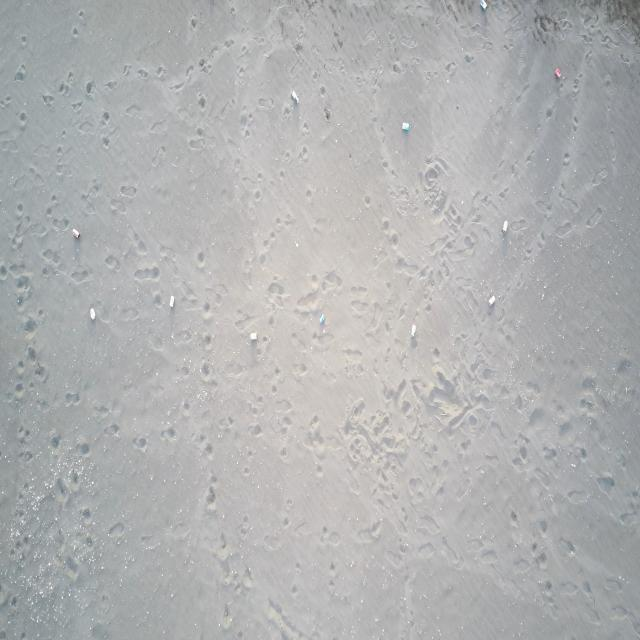Garbage: (291, 89, 298, 103), (71, 227, 79, 238), (487, 296, 495, 306), (553, 67, 560, 77), (402, 121, 409, 131), (89, 307, 94, 320), (480, 0, 487, 9), (502, 220, 507, 232), (249, 332, 256, 340), (319, 313, 324, 324), (168, 296, 173, 307), (411, 324, 415, 336)
